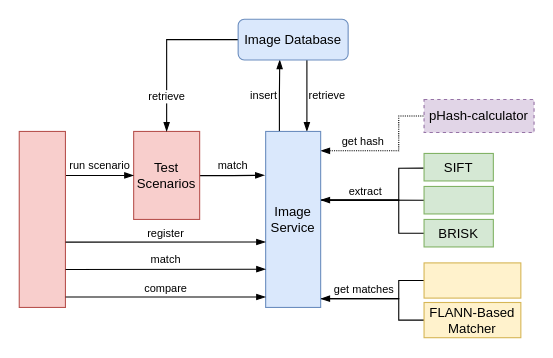
Image size: 553x358. Some labels were removed from this diagram. Each missing label, with the box of its shape:
Brute-Force Matcher: (423, 262, 521, 298)
ORB: (423, 185, 493, 214)
Test CLI: (18, 130, 65, 307)
